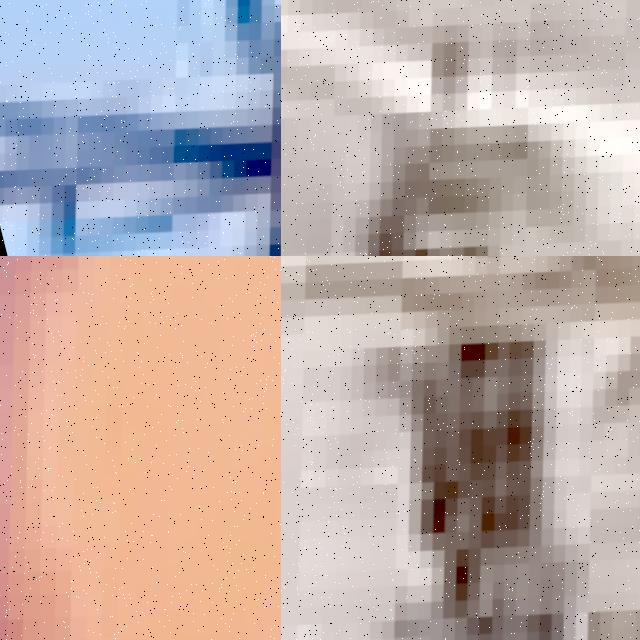drone: (281, 256, 640, 640), (0, 256, 281, 640), (281, 0, 640, 256), (0, 0, 281, 256)
